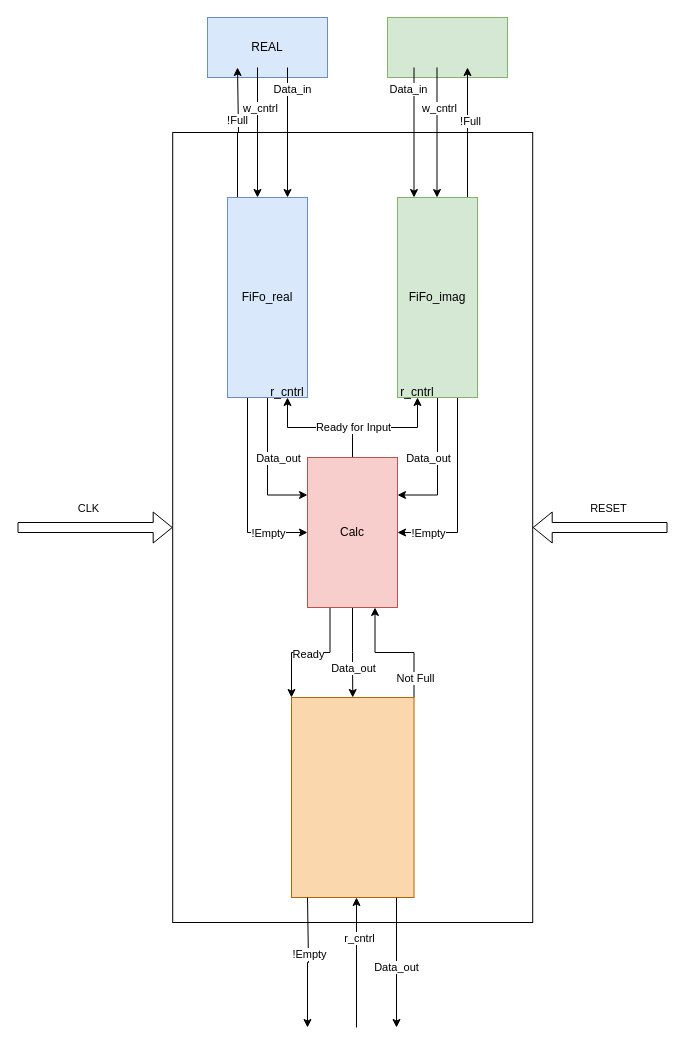
The diagram is 684 pixels wide and 1053 high, and some of its shapes have lost their labels. Each missing label, with the centre of its shape:
FiFo_results: (352,797)
IMAGINARY: (447,47)
